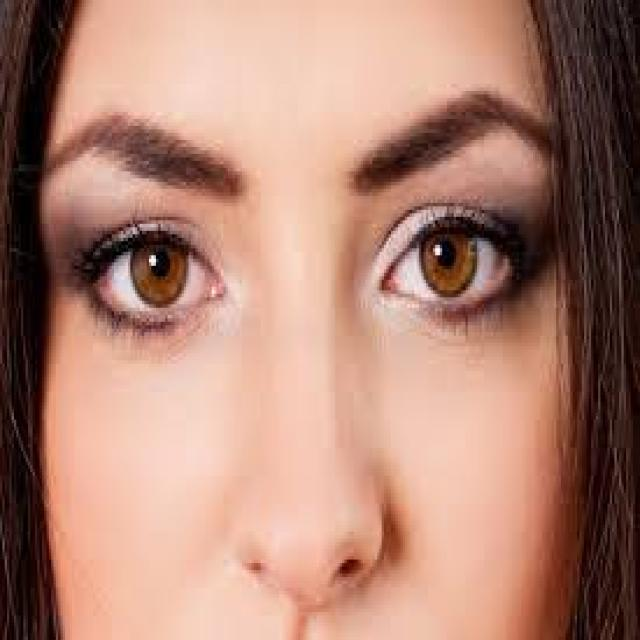no_dark_circle: (79, 318, 222, 402), (378, 295, 529, 371)
